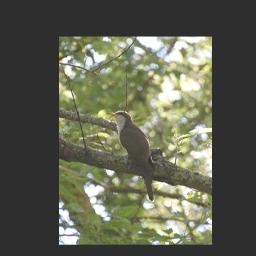Cuckoo: (106, 110, 157, 203)
